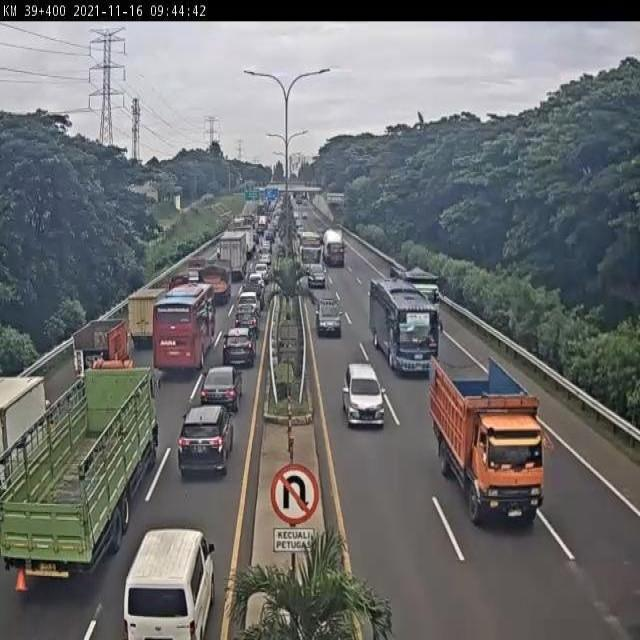Bus: (370, 278, 439, 376), (153, 282, 215, 372)
Car: (122, 528, 214, 638), (176, 403, 236, 477), (342, 364, 386, 427), (199, 366, 243, 414), (222, 326, 257, 369), (314, 296, 342, 338), (306, 262, 327, 290)
Truck: (0, 364, 162, 575), (430, 355, 546, 529), (72, 316, 130, 369), (217, 231, 248, 278), (202, 258, 233, 300), (296, 229, 323, 267), (322, 228, 346, 268)
